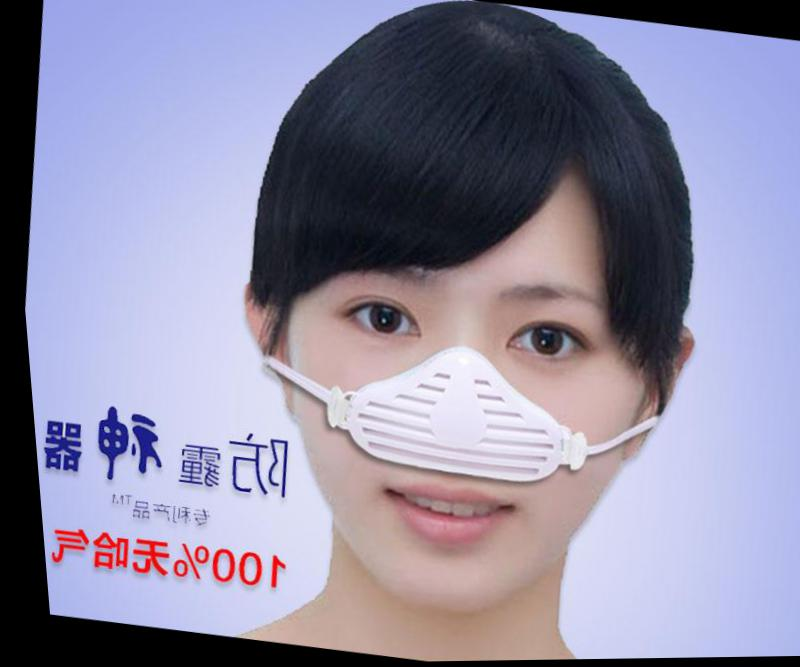WRONG: (242, 226, 679, 640)
